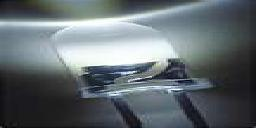LED: (48, 21, 219, 128)
